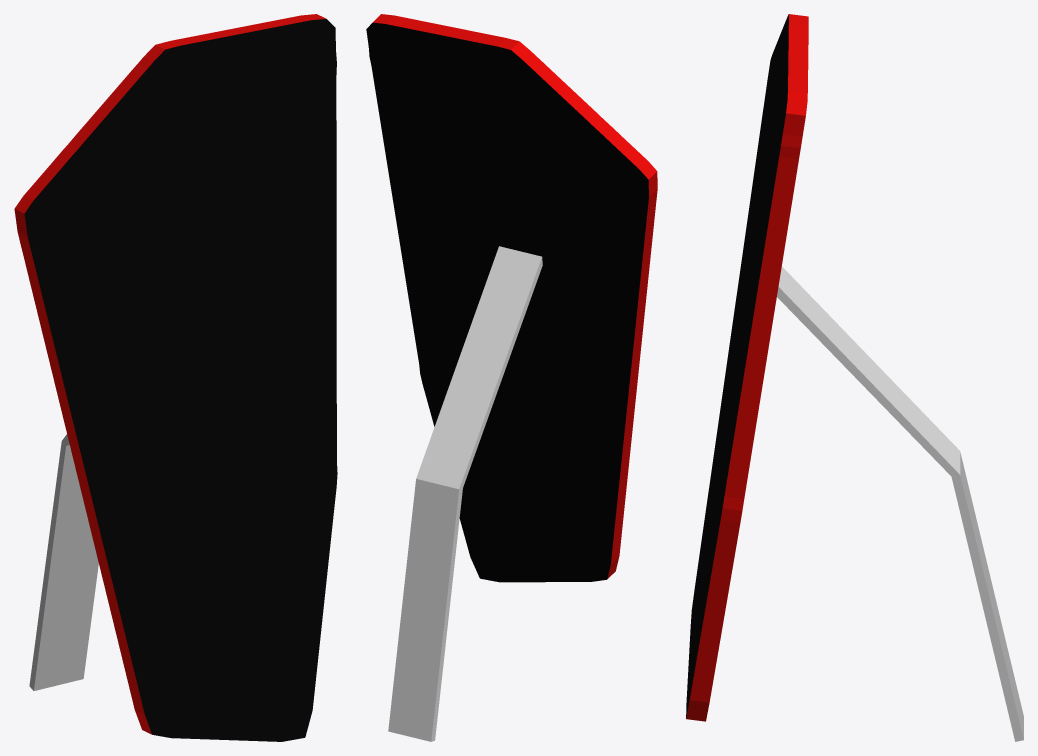
Rendered from bookshelf cardboard.fbx.
3 renders of one model, left to right at view 1: azimuth 30°, elevation 25°; view 2: azimuth 150°, elevation 25°; view 3: azimuth 270°, elevation 25°, orthographic. The views are drawn at different scales.
Visible parts, largest first — view 1: path1, Plane; view 2: path1, Plane; view 3: path1, Plane.
Boxes of the visible parts, x1,y1,x2,y2 form: path1: (14, 14, 337, 741); Plane: (29, 434, 98, 690); path1: (366, 14, 657, 582); Plane: (388, 246, 542, 741); path1: (686, 14, 808, 721); Plane: (777, 266, 1023, 741).
Bounding box in the file's own units: 1279 × 2766 × 1189.
